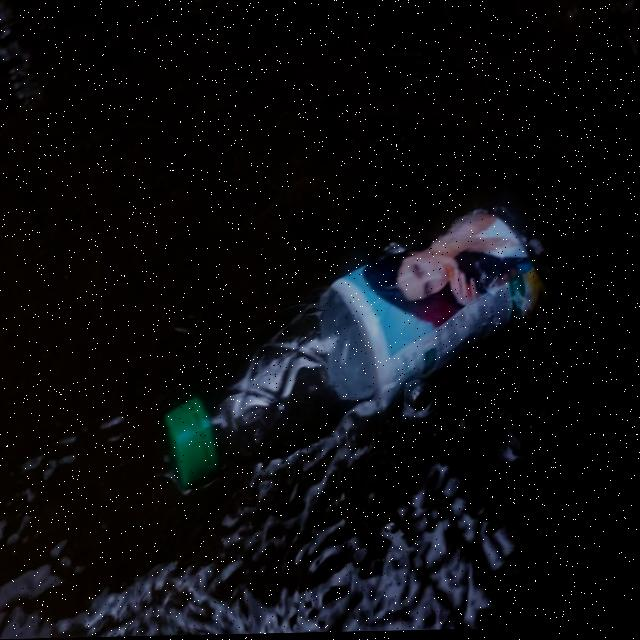waterbottle: (176, 189, 547, 478)
